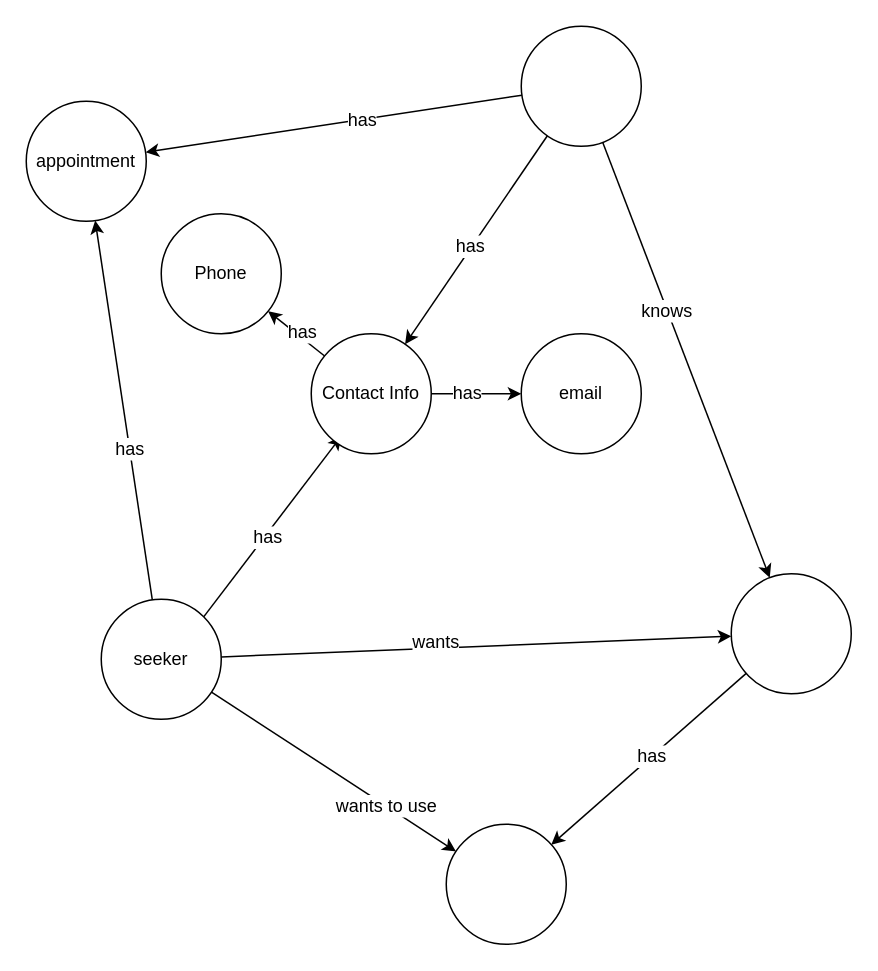
This 878x971 diagram has some shape labels left out. The box of each missing label's shape, as (x1, y1, x2, y2) in pixels:
Coach: (520, 25, 641, 146)
dish: (730, 572, 851, 694)
ingredient: (445, 823, 566, 944)
